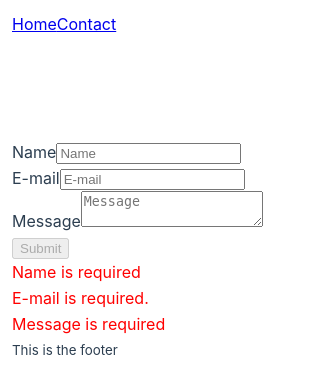
Scenario: Contact Form › should display an error message if required fields are not filled
The image size is (332, 372).
Type "John Doe" into the field with test id "name-input".
click(149, 154); type("John Doe")  # box [56,143,241,164]
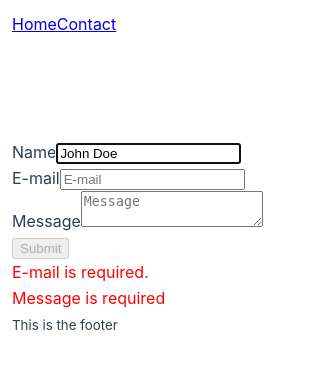
Press Selectall Backspace in the field with test id "name-input", box [56,143,241,164]
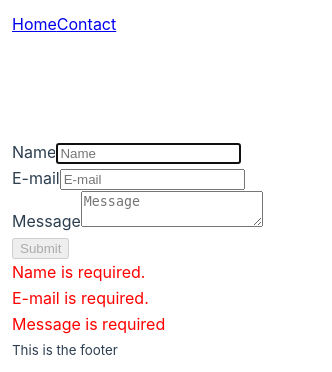
Expected: the text "Name is required." is shown, [12,262,145,282]
